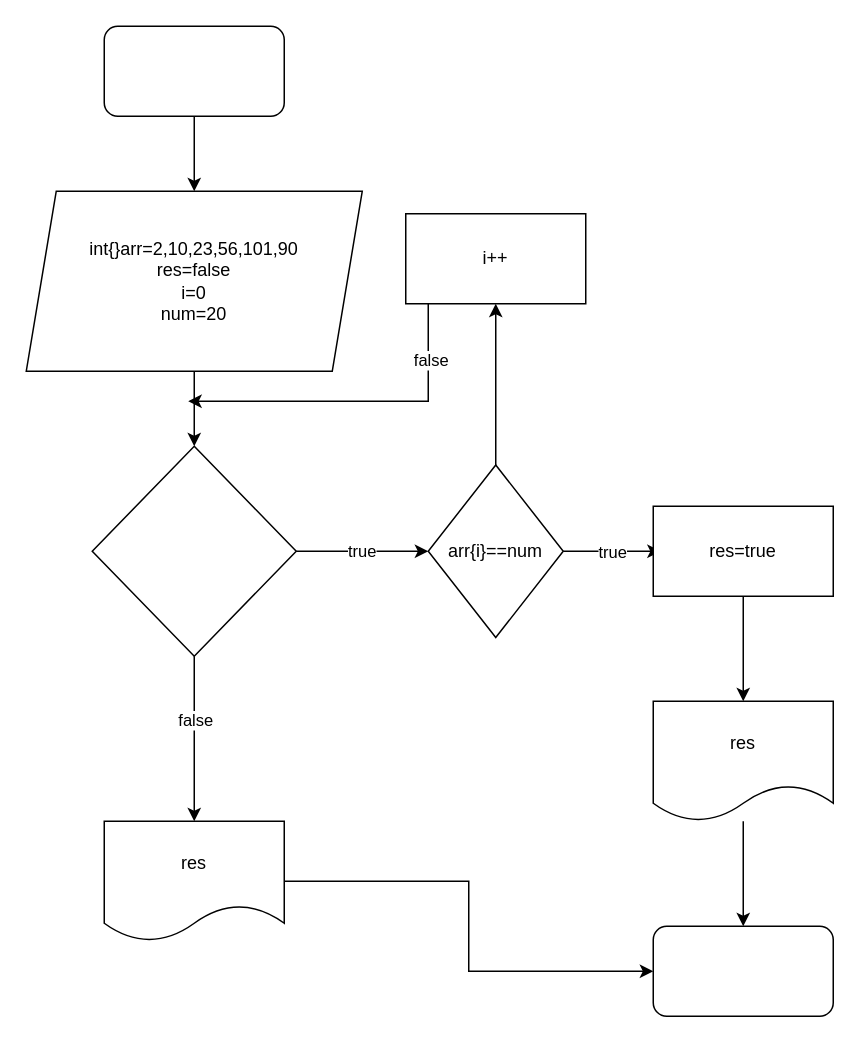
Some shapes in this 860 by 1043 pixel diagram are drawn without their labels. The shapes that lost their labels are listed below. From the top down, each one's centre as x and y in pixels, then its label:
At pixel 193 70: "start".
At pixel 193 550: "i<arr.lenght".
At pixel 742 970: "end".
